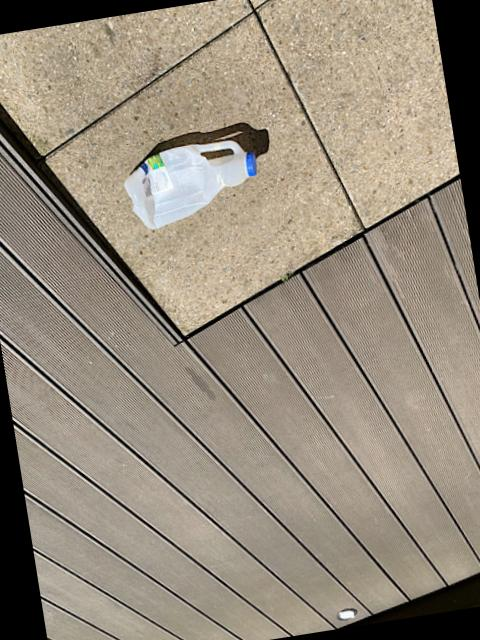plastic: (123, 142, 256, 230)
